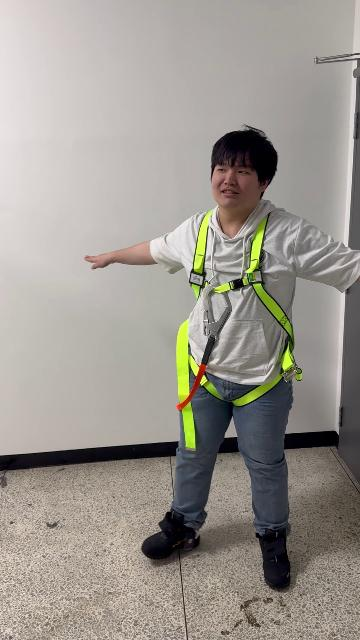helmet_not_worn: (211, 131, 279, 194)
shoe_worn: (142, 509, 199, 559), (256, 529, 291, 589)
vest_worn: (170, 207, 299, 437)
